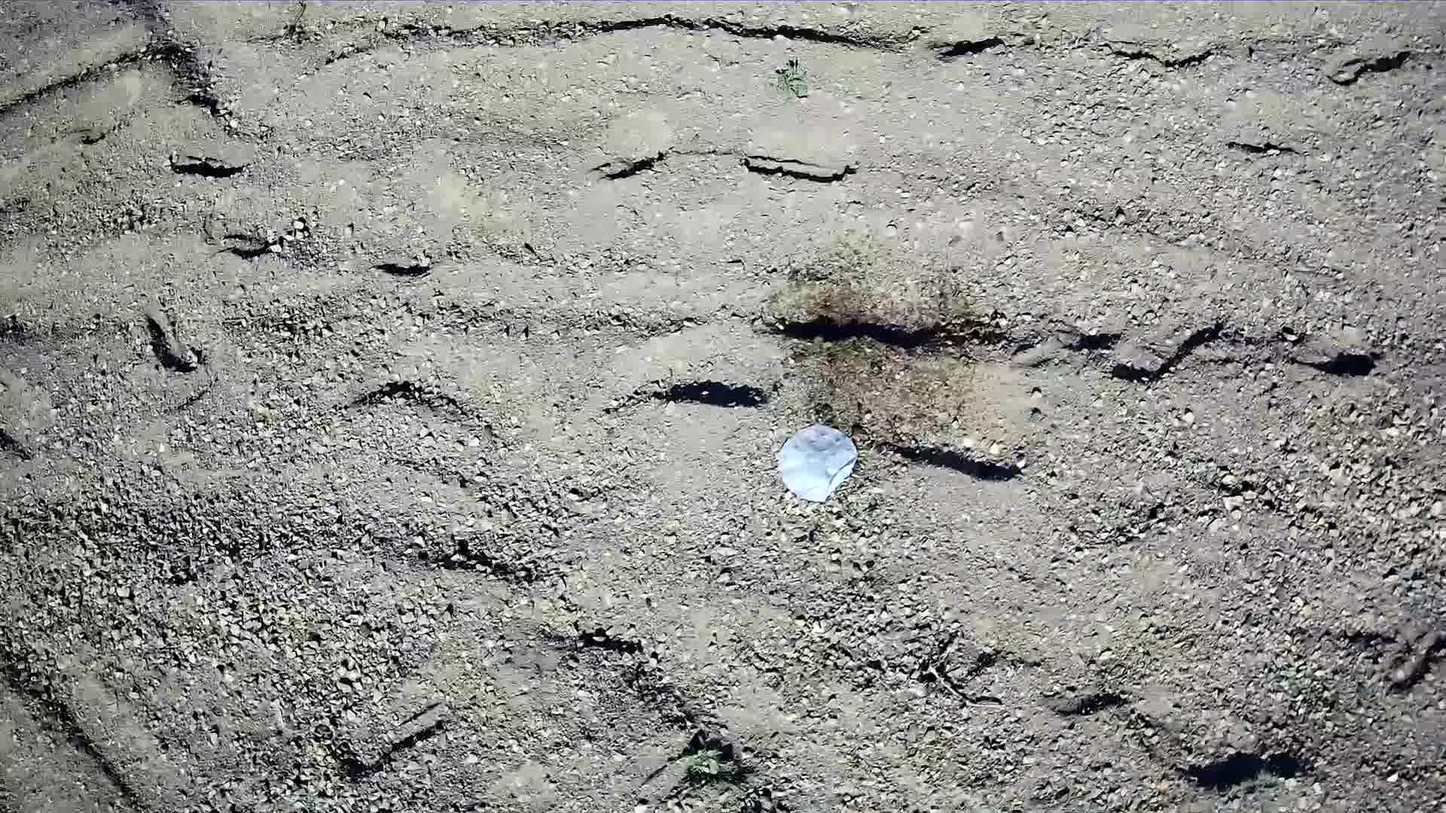Target: (780, 427, 856, 501)
